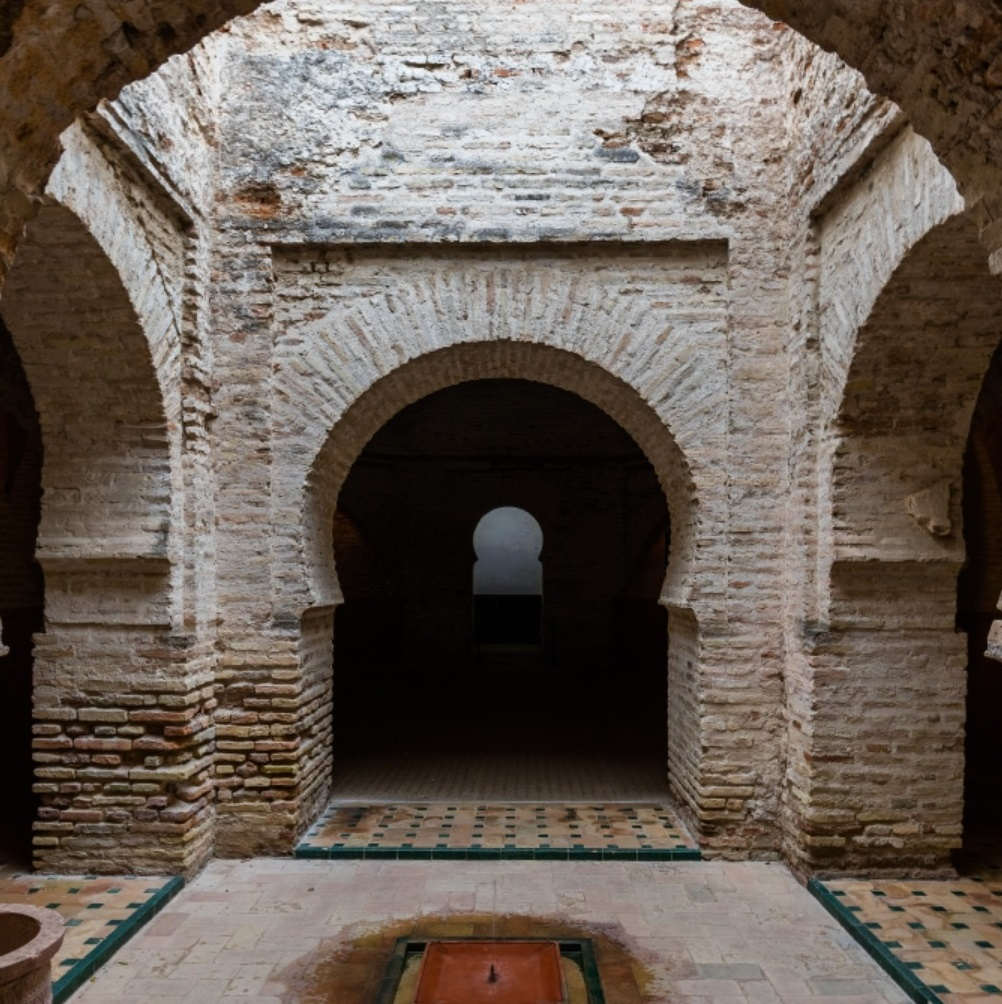arco-herradura: (276, 320, 721, 647)
